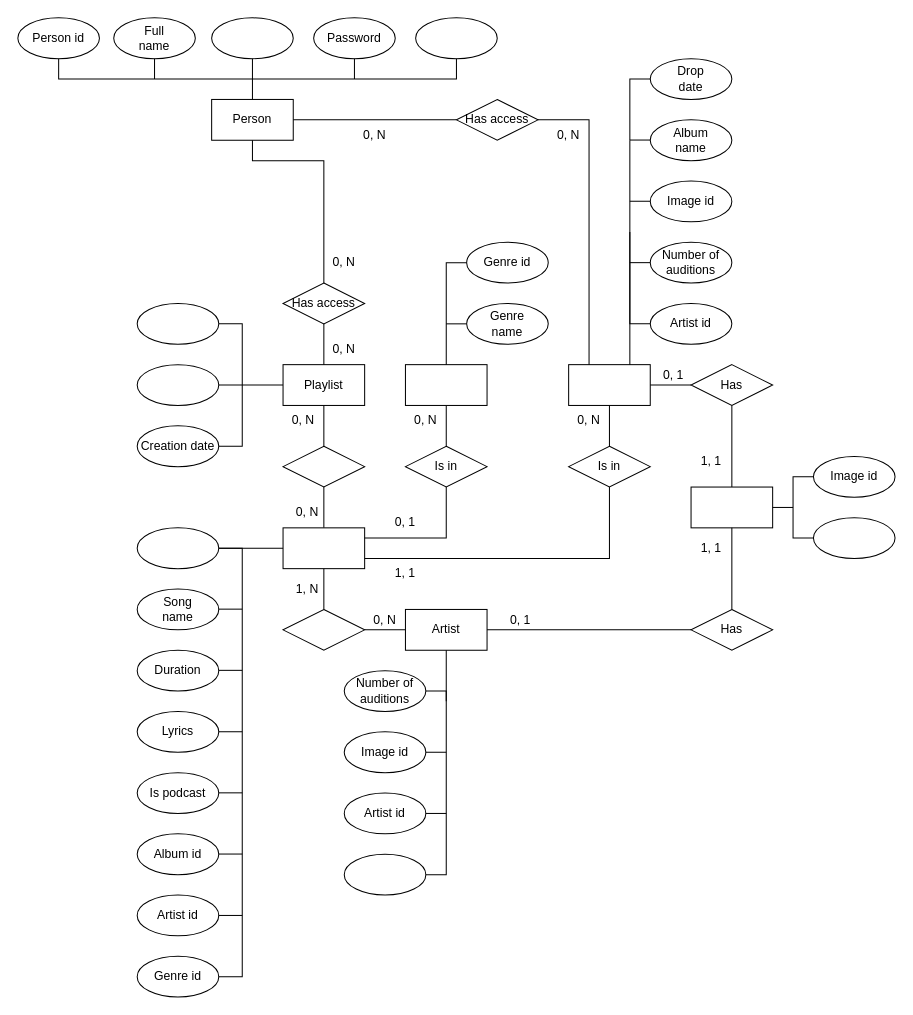
Image size: 913x1015. Some labels were removed from this diagram. Here are the shapes that lost their labels. From the top down, the centre of each, then its label:
the point at 252,38: Phone number
the point at 456,38: email
the point at 177,323: Playlist id
the point at 177,384: Playlist name
the point at 445,384: Genre
the point at 609,384: Album
the point at 323,466: Contains
the point at 731,507: Image
the point at 177,548: Song id
the point at 323,548: Song
the point at 853,537: Photo
the point at 323,629: Belongs to
the point at 384,874: Artist name
